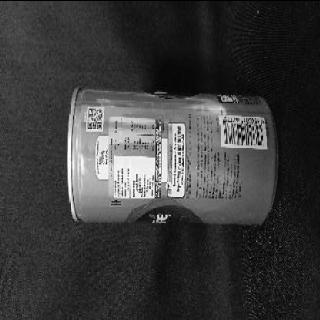alumunium_can: (67, 86, 278, 224)
